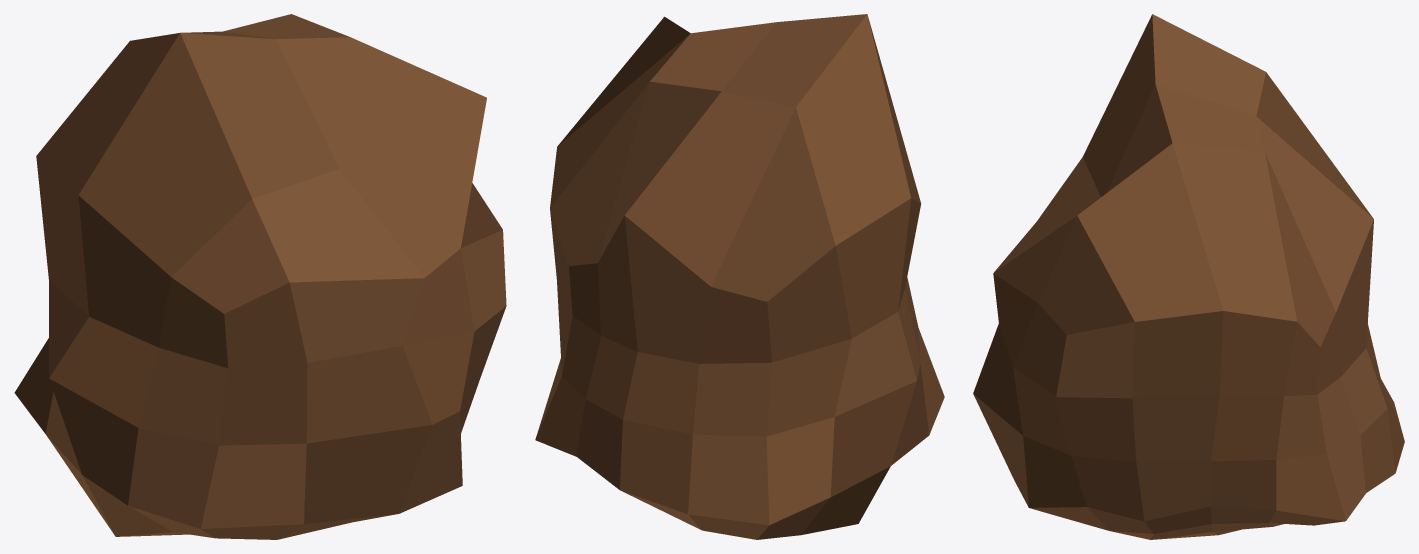
Rendered from Pedra Grande Prop.fbx.
The picture shows the model from 3 angles, left to right: view 1: azimuth 30°, elevation 25°; view 2: azimuth 150°, elevation 25°; view 3: azimuth 270°, elevation 25°; orthographic projection. The views are drawn at different scales.
Visible parts, largest first — view 1: Cube.002; view 2: Cube.002; view 3: Cube.002.
Boxes of the visible parts, x1,y1,x2,y2 form: Cube.002: (14,14,506,539); Cube.002: (535,14,944,539); Cube.002: (973,14,1404,539).
Size of the model in its own units: 436 by 557 by 470.
